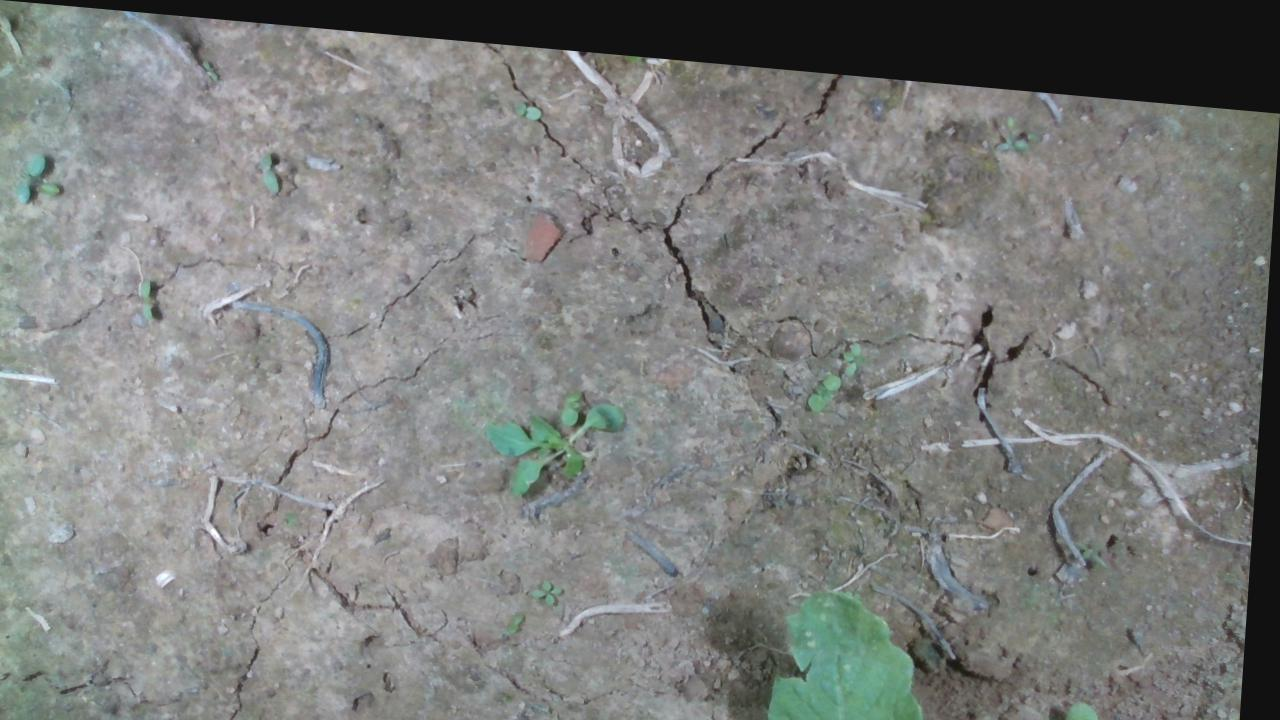weed: (806, 355, 849, 397)
